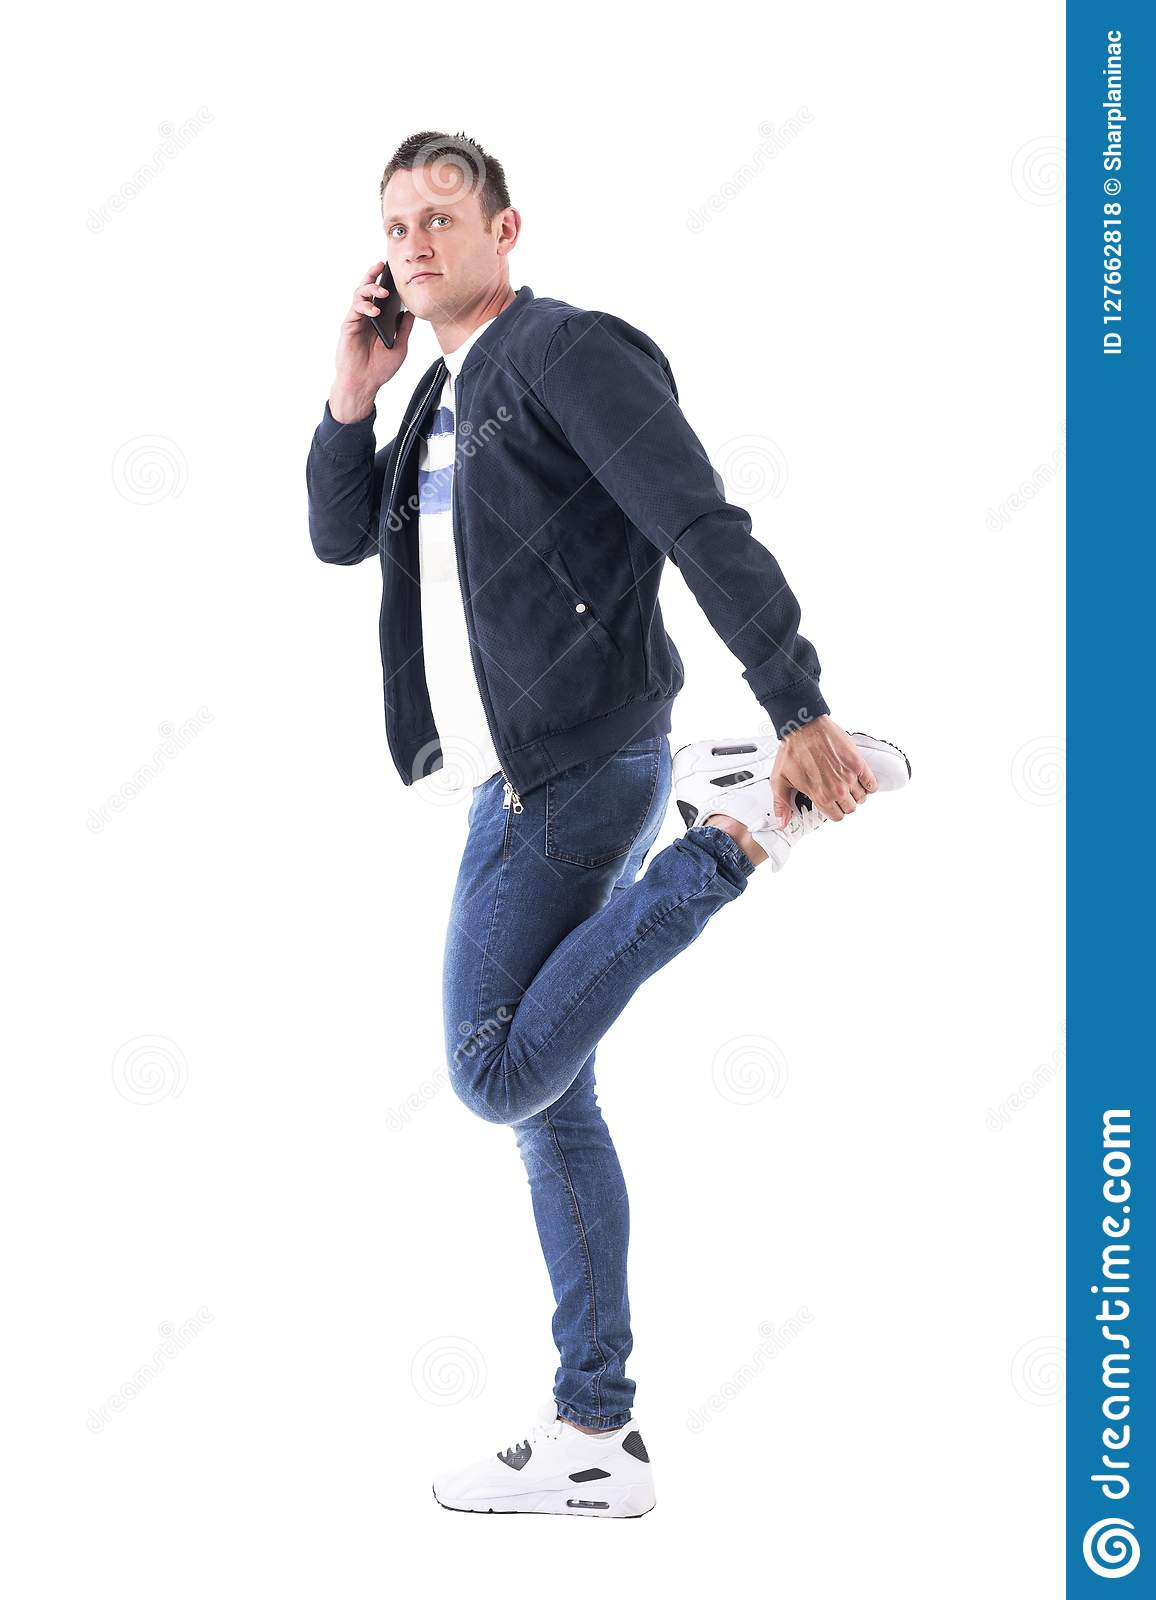phone: (366, 251, 406, 357)
talk: (336, 191, 464, 391)
